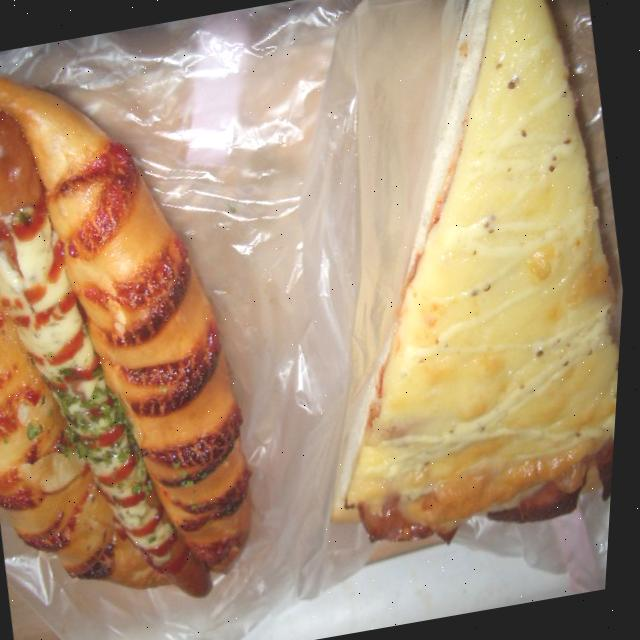三明治: (0, 15, 303, 636)
汉堡快餐: (247, 0, 640, 562)
